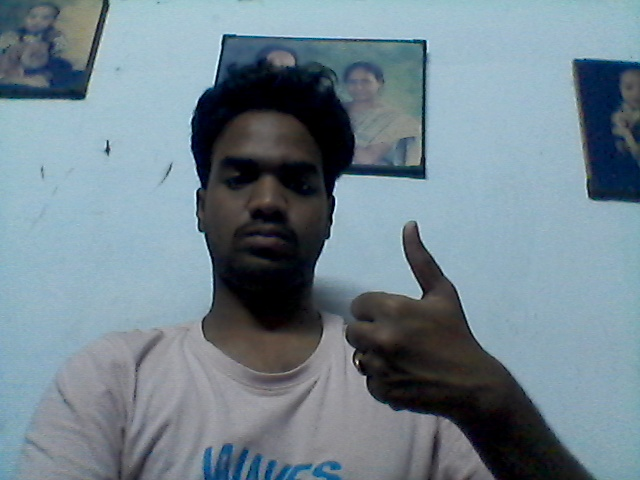Fine: (345, 215, 486, 424)
